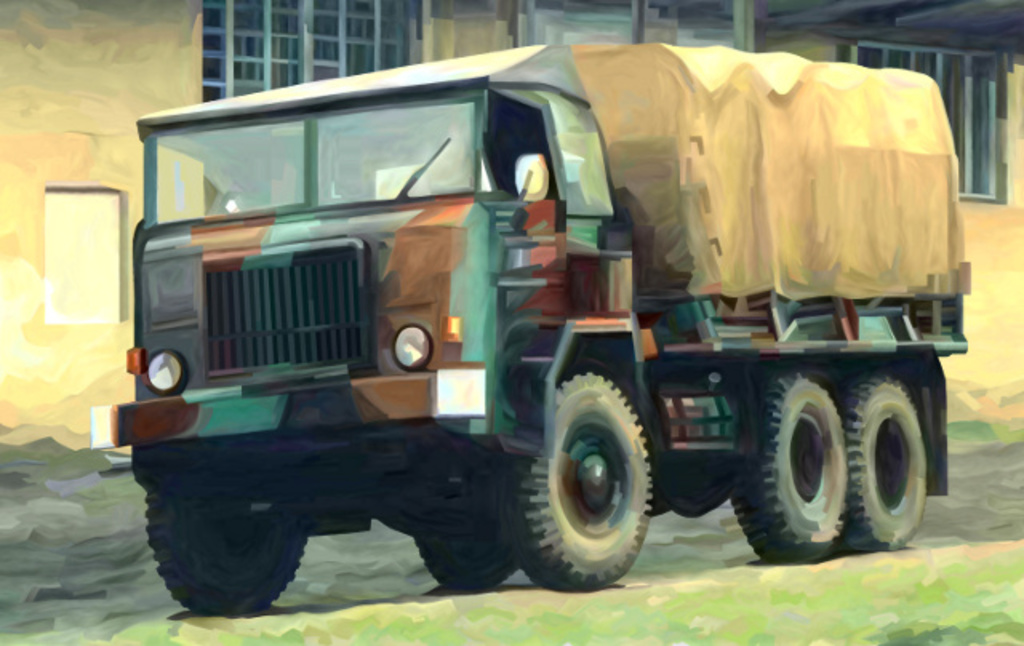truck: (69, 29, 980, 627)
